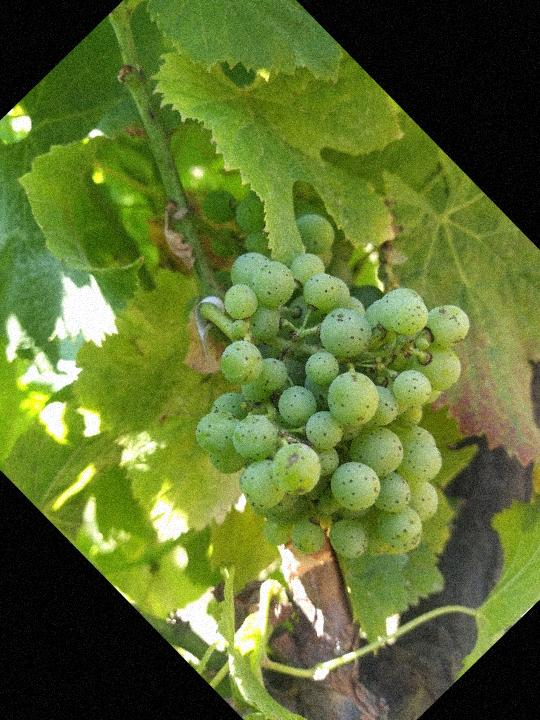grape: (106, 168, 540, 623)
